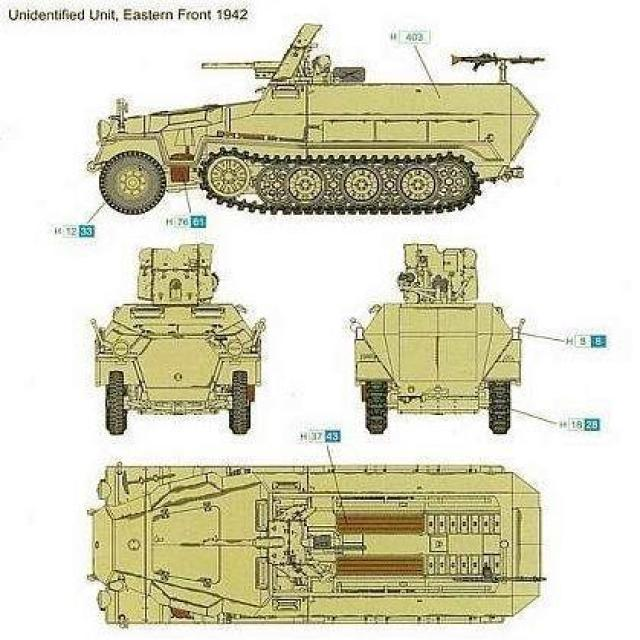Tanks: (88, 10, 541, 218), (83, 459, 559, 622), (83, 251, 277, 447), (345, 232, 521, 443)
